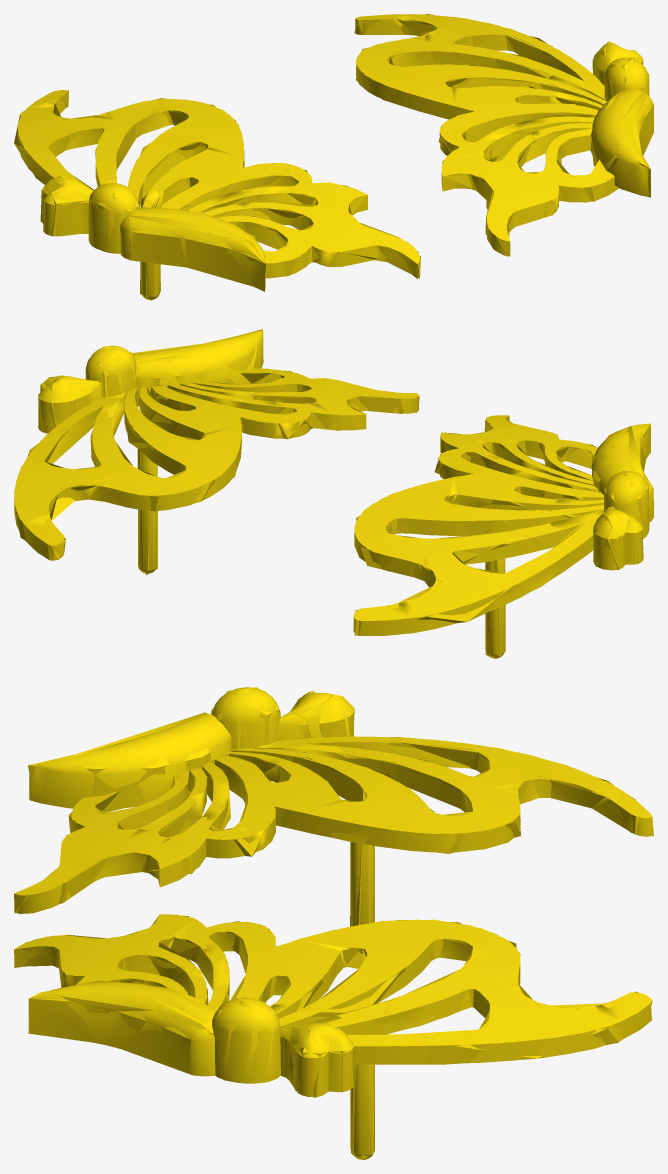
The picture shows the model from 3 angles, top to bottom: view 1: azimuth 30°, elevation 25°; view 2: azimuth 150°, elevation 25°; view 3: azimuth 270°, elevation 25°; orthographic projection. The views are drawn at different scales.
Parts seen in each view (by area): view 1: highPolyMesh, lowPolyMesh; view 2: highPolyMesh, lowPolyMesh; view 3: highPolyMesh, lowPolyMesh.
Boxes of the visible parts, x1,y1,x2,y2 form: highPolyMesh: (17,14,653,300); lowPolyMesh: (14,14,653,300); highPolyMesh: (14,329,653,658); lowPolyMesh: (14,329,653,656); highPolyMesh: (14,687,651,1159); lowPolyMesh: (14,687,653,1159).
Size of the model in its own units: 0.0208 by 0.00568 by 0.0156.
